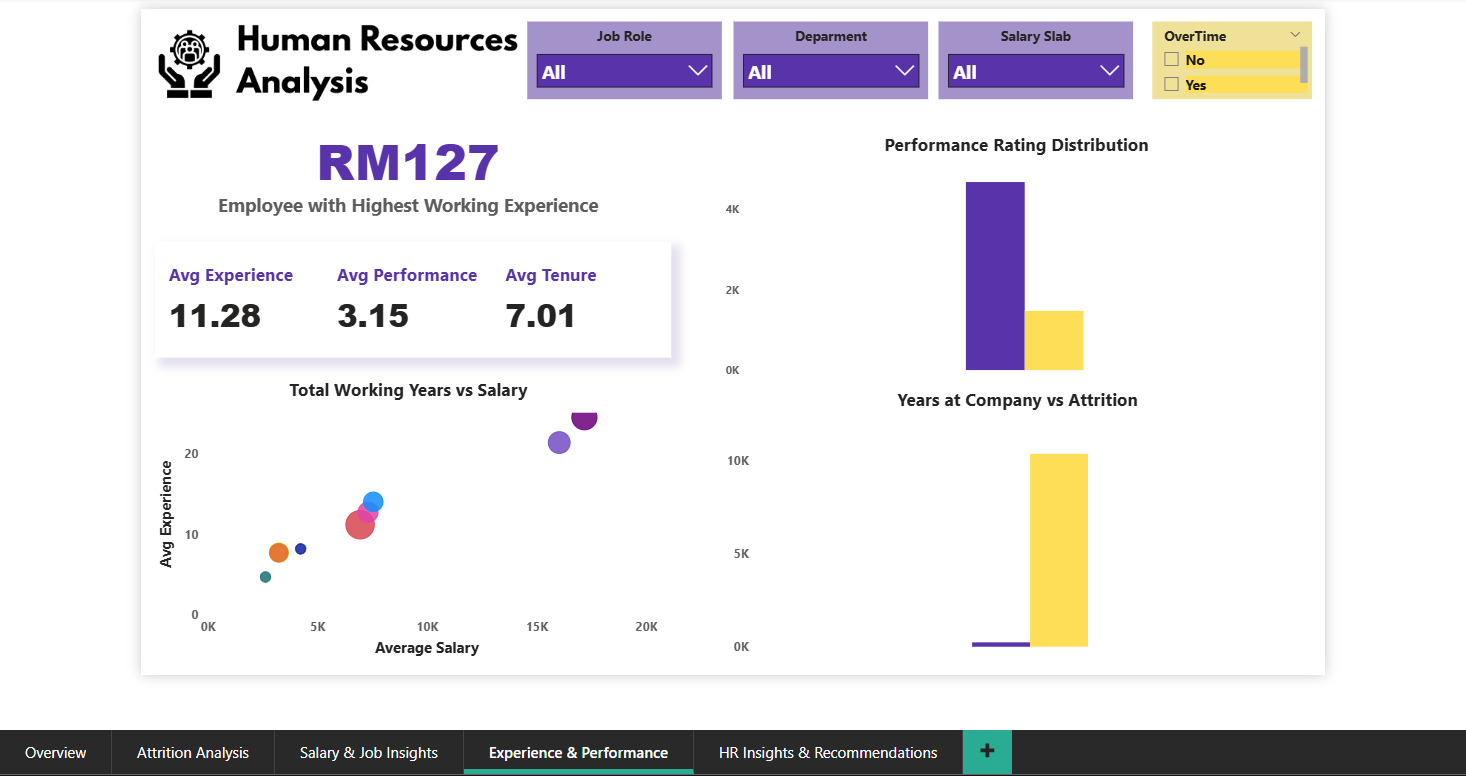

This screenshot's page, from the dashboard's own definition file:
{"tool":"powerbi","page":{"name":"Experience & Performance","canvas":[1280,720],"ordinal":3},"visuals":[{"type":"slicer","title":"Job Role","fields":{"Values":["Job_Details.JobRole"]},"box":[417,13,210,83.7],"z":0},{"type":"slicer","title":"Deparment","fields":{"Values":["Job_Details.Department"]},"box":[640.6,13,210.6,83.7],"z":1000},{"type":"slicer","title":"Salary Slab","fields":{"Values":["Salary_Details.SalarySlab"]},"box":[862.8,13,210.6,83.7],"z":2000},{"type":"slicer","fields":{"Values":["Performance.OverTime"]},"box":[1093.6,13,173.1,83.7],"z":3000},{"type":"scatterChart","title":"Total Working Years vs Salary","fields":{"Size":["Sum(Salary_Details.MonthlyIncome)"],"Series":["Job_Details.JobRole"],"Y":["Performance.Avg Experience"],"X":["Salary_Details.Average Salary"]},"box":[14.7,392.6,548.5,311.7],"z":4000},{"type":"clusteredColumnChart","title":"Performance Rating Distribution","fields":{"Y":["Sum(Performance.PerformanceRating)","Employees.Total Employees"]},"box":[627.6,128.4,639.1,275.6],"z":5000},{"type":"clusteredColumnChart","title":"Years at Company vs Attrition","fields":{"Y":["Performance.Attrition Count","Sum(Performance.YearsAtCompany)"]},"box":[628,404,639,300],"z":6000},{"type":"card","fields":{"Values":["Performance.Employee with Highest Working Experience"]},"box":[14.4,128.4,548.2,103.9],"z":7000},{"type":"cardVisual","fields":{"Data":["Performance.Avg Experience","Performance.Avg Performance","Performance.Avg Tenure"]},"box":[14.4,251,558.3,125.5],"z":8000}]}

Visuals, with their boxes on the page's 1280x720 design canvas (x1, y1, x2, y2). These are canvas units, not pixel positions in the 1466x776 screenshot, which may show the page scaled, cropped or inside an application window:
"Job Role" slicer: locate(417, 13, 627, 97)
"Deparment" slicer: locate(641, 13, 851, 97)
"Salary Slab" slicer: locate(863, 13, 1073, 97)
slicer - Performance.OverTime: locate(1094, 13, 1267, 97)
"Total Working Years vs Salary" scatterChart: locate(15, 393, 563, 704)
"Performance Rating Distribution" clusteredColumnChart: locate(628, 128, 1267, 404)
"Years at Company vs Attrition" clusteredColumnChart: locate(628, 404, 1267, 704)
card - Performance.Employee with Highest Working Experience: locate(14, 128, 563, 232)
cardVisual - Performance.Avg Experience x Performance.Avg Performance: locate(14, 251, 573, 376)
